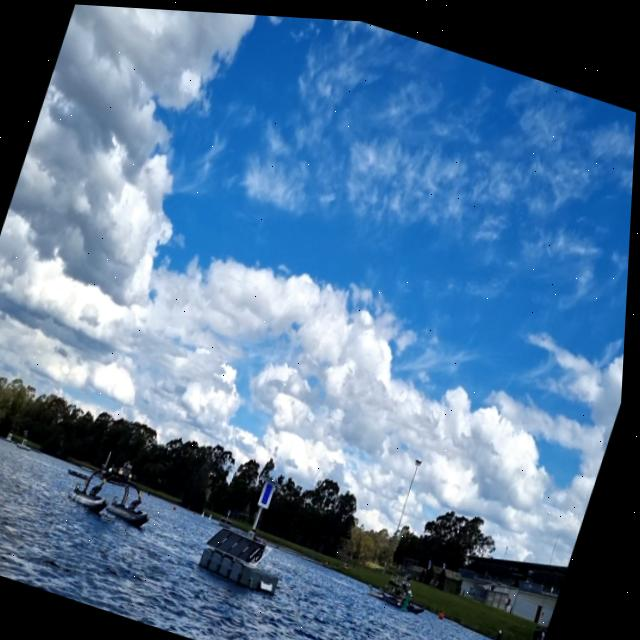led: (264, 477, 280, 504)
